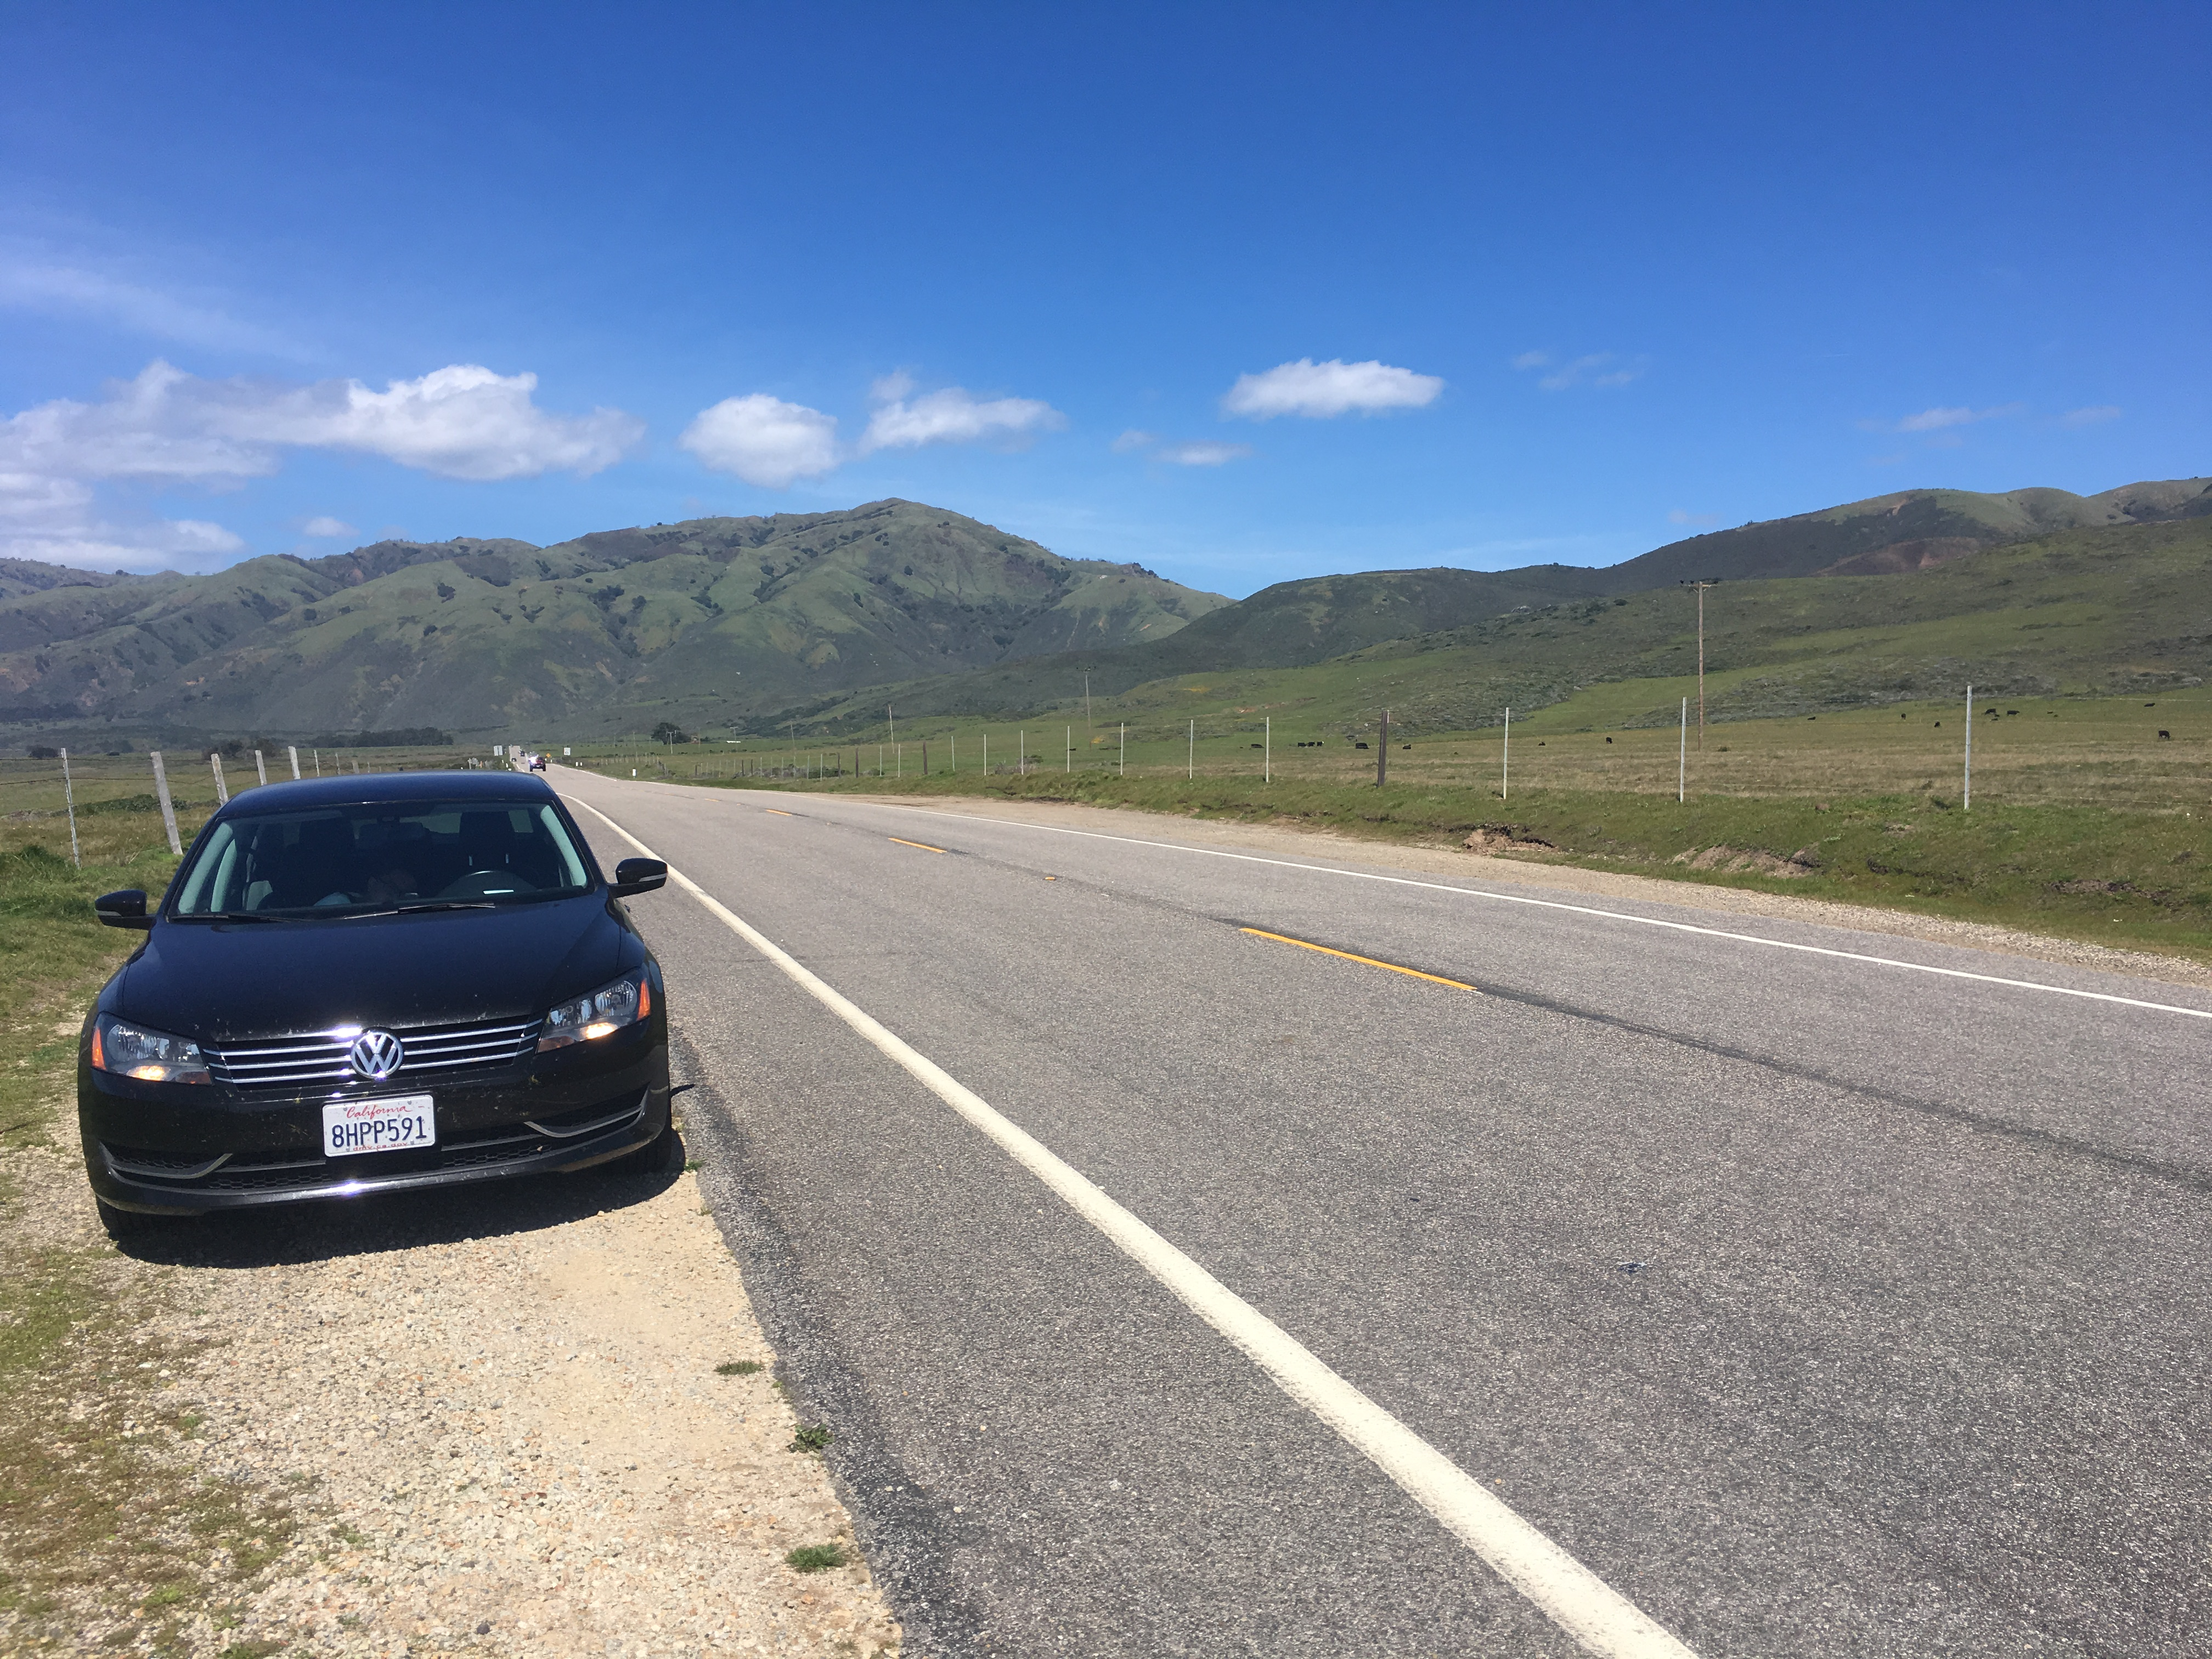Obstacle: (64, 758, 698, 1272)
